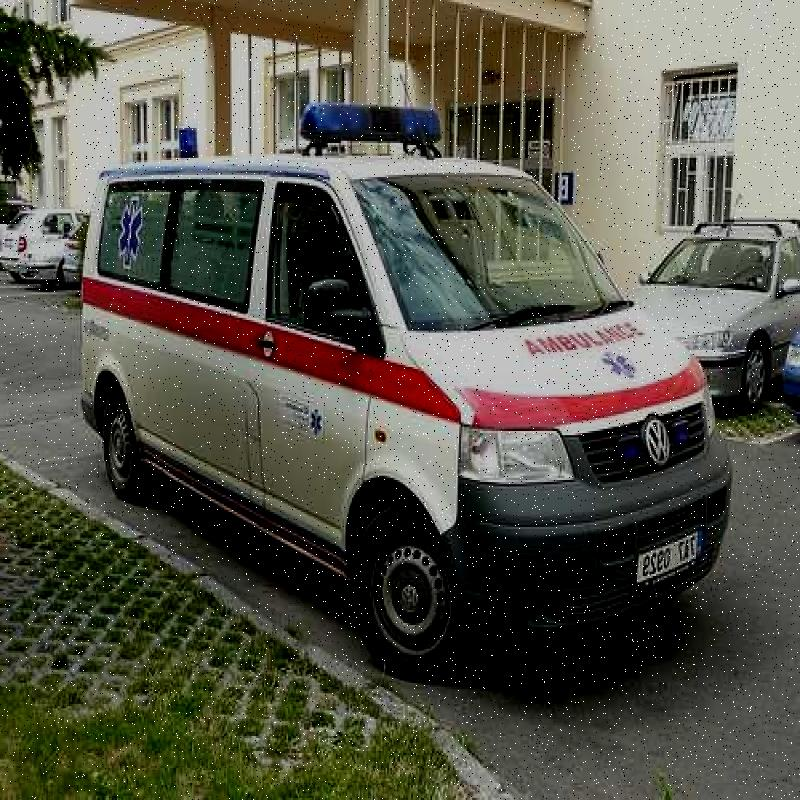AmbulanceSiren: (284, 90, 448, 170)
